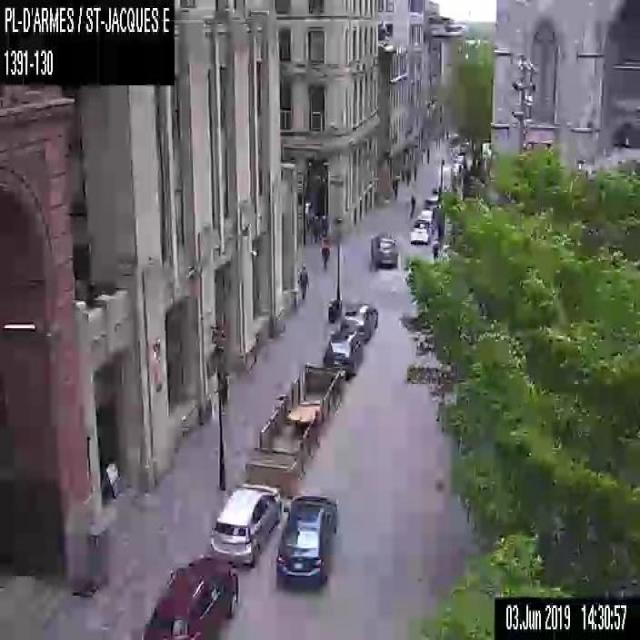pedestrian: (297, 264, 309, 299), (319, 238, 329, 268), (221, 372, 227, 415), (390, 176, 398, 201), (409, 191, 415, 216), (404, 168, 410, 186)
vehicle: (142, 552, 238, 638), (274, 494, 338, 591), (209, 482, 282, 567), (322, 328, 363, 379), (340, 302, 378, 343), (369, 232, 398, 267), (409, 218, 429, 244), (418, 209, 436, 232)
